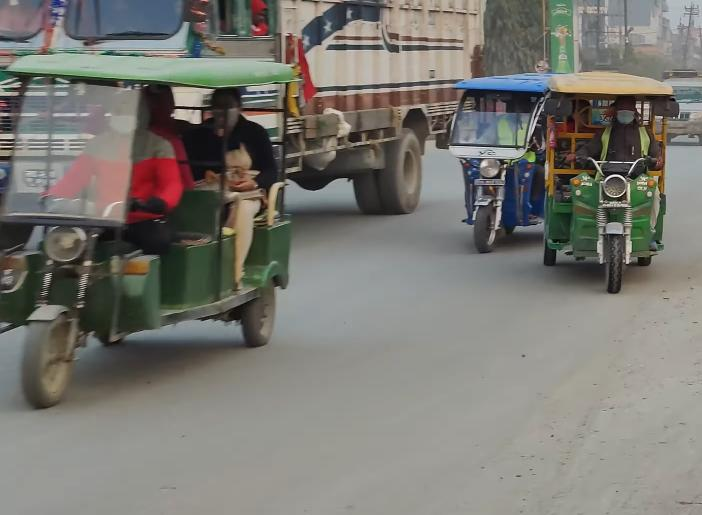e-rickshaw: (0, 42, 294, 408), (544, 62, 672, 302), (433, 50, 559, 250)
